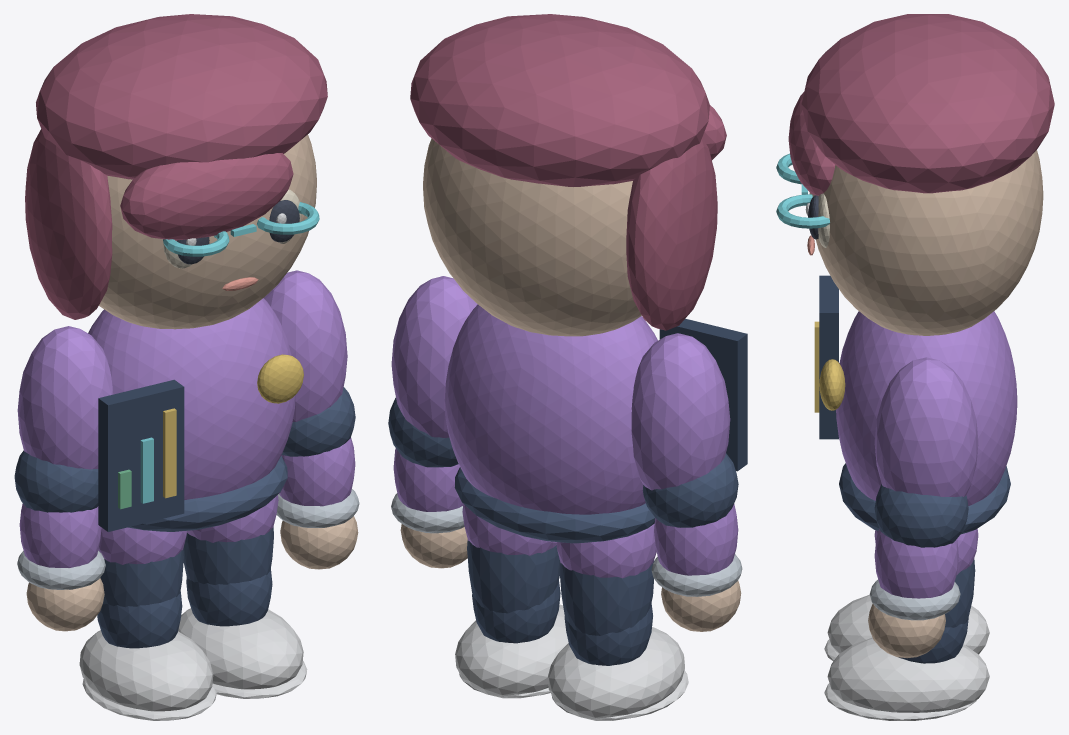
The model's file is avatar_ai_stock_analyst_v3.glb.
3 renders of one model, left to right at view 1: azimuth 30°, elevation 25°; view 2: azimuth 150°, elevation 25°; view 3: azimuth 270°, elevation 25°, orthographic. The views are drawn at different scales.
Visible parts, largest first — view 1: hair_cap, body_core, head_face, hair_side_L, hair_fringe, L_sleeve_upper, stock_tablet, L_shoe, R_sleeve_upper, R_shoe, L_sleeve_lower, L_elbow (+21 smaller); view 2: hair_cap, body_core, head_face, hair_side_L, L_sleeve_upper, R_sleeve_upper, L_shoe, R_shoe, waist_band, L_leg, R_leg, stock_tablet (+14 smaller); view 3: hair_cap, head_face, body_core, R_sleeve_upper, R_shoe, R_elbow, R_sleeve_lower, R_hand, L_shoe, waist_band, hair_fringe, stock_tablet (+9 smaller).
Boxes of the visible parts, bbox=[...] form: hair_cap: bbox=[36, 14, 327, 179]; body_core: bbox=[88, 298, 295, 499]; head_face: bbox=[99, 134, 316, 329]; hair_side_L: bbox=[25, 129, 112, 319]; hair_fringe: bbox=[120, 153, 293, 240]; L_sleeve_upper: bbox=[17, 326, 113, 469]; stock_tablet: bbox=[98, 379, 184, 531]; L_shoe: bbox=[79, 630, 213, 711]; R_sleeve_upper: bbox=[264, 270, 347, 421]; R_shoe: bbox=[178, 608, 303, 689]; L_sleeve_lower: bbox=[19, 503, 101, 567]; L_elbow: bbox=[14, 450, 98, 512]; hair_cap: bbox=[410, 14, 709, 186]; body_core: bbox=[444, 304, 657, 542]; head_face: bbox=[423, 138, 641, 336]; hair_side_L: bbox=[626, 137, 717, 330]; L_sleeve_upper: bbox=[631, 333, 730, 490]; R_sleeve_upper: bbox=[391, 276, 477, 437]; L_shoe: bbox=[547, 627, 684, 720]; R_shoe: bbox=[455, 604, 568, 698]; waist_band: bbox=[454, 467, 654, 543]; L_leg: bbox=[559, 560, 654, 635]; R_leg: bbox=[467, 540, 560, 613]; stock_tablet: bbox=[659, 318, 747, 471]; hair_cap: bbox=[801, 14, 1054, 193]; head_face: bbox=[809, 150, 1043, 335]; body_core: bbox=[836, 311, 1017, 505]; R_sleeve_upper: bbox=[874, 357, 978, 496]; R_shoe: bbox=[827, 637, 989, 712]; R_elbow: bbox=[874, 484, 968, 547]; R_sleeve_lower: bbox=[874, 528, 958, 598]; R_hand: bbox=[868, 603, 945, 658]; L_shoe: bbox=[827, 594, 989, 654]; waist_band: bbox=[839, 463, 1010, 534]; hair_fringe: bbox=[788, 92, 835, 195]; stock_tablet: bbox=[819, 275, 838, 439].
Size of the model in its own units: 1.17 by 2.21 by 0.858.
